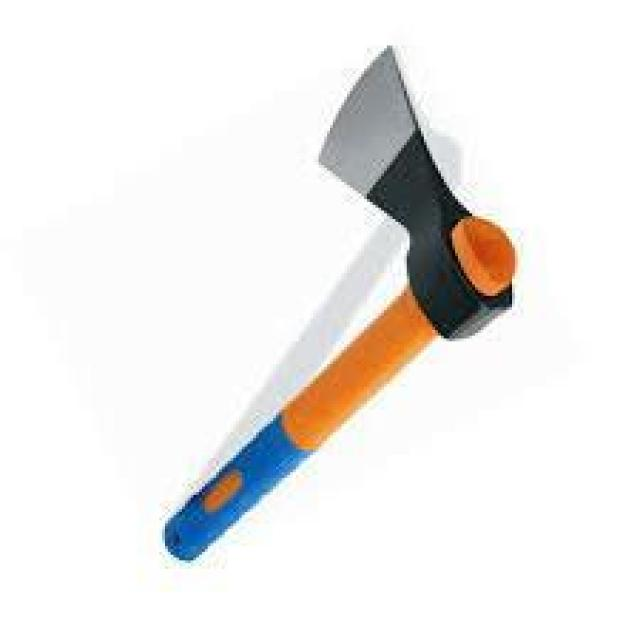Kapak: (187, 41, 463, 511)
